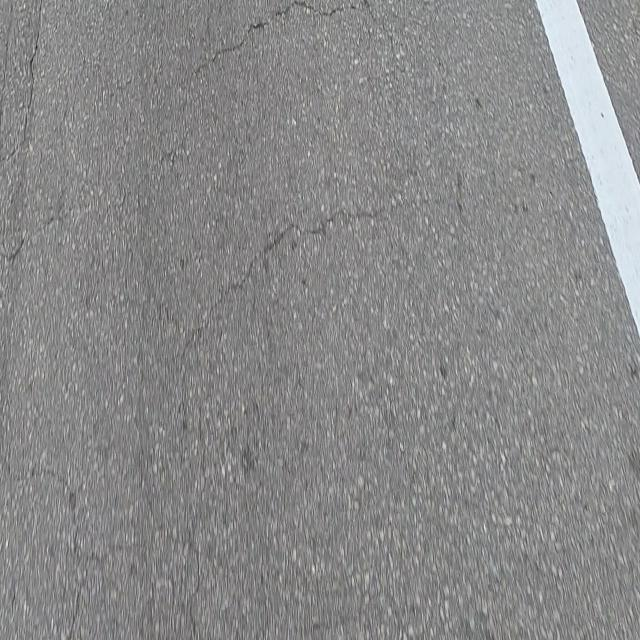Retak-Melintang: (181, 196, 439, 356), (189, 0, 380, 78)
Retak-Memanjang: (21, 3, 45, 136)
